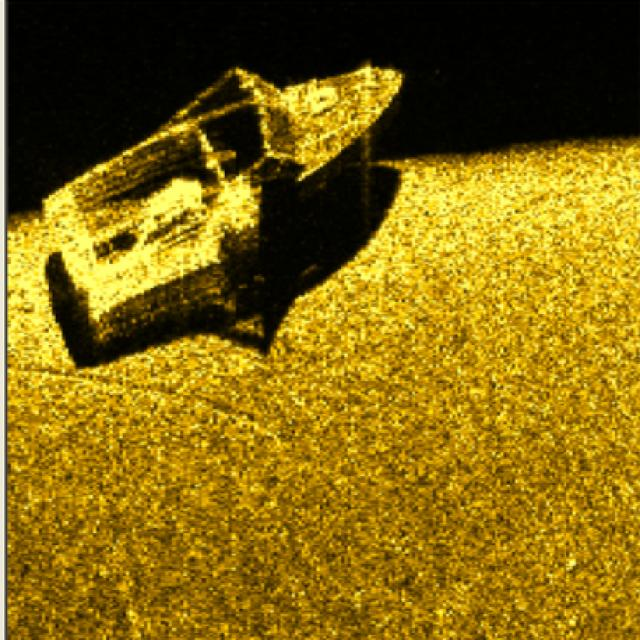ship: (36, 39, 402, 353)
